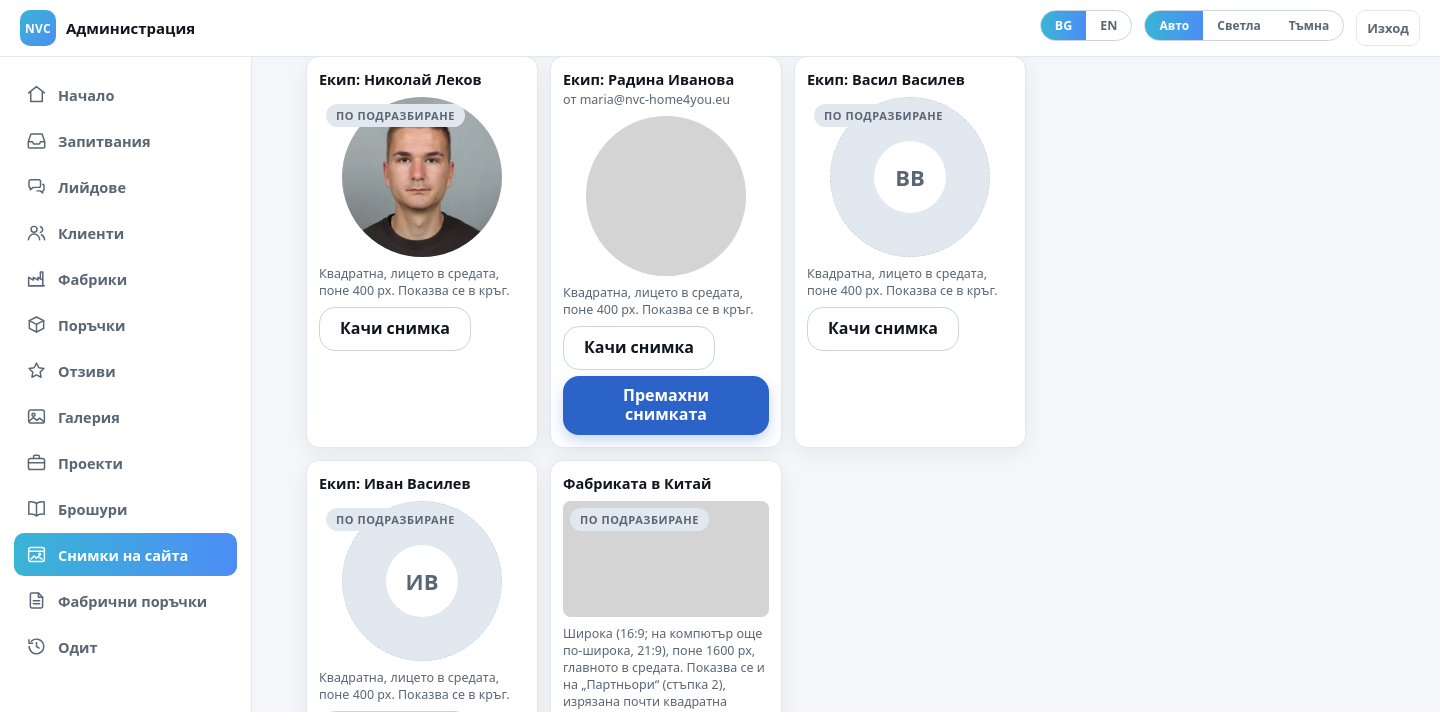
Test: AdminHomePhotosPage › offers to restore the default where there is one, and to remove the photo where the default is initials or nothing
(page scrolled)
Click the button with aria-label "Премахни снимката — Екип: Радина Иванова": (666, 405) 563,376 -> 769,435
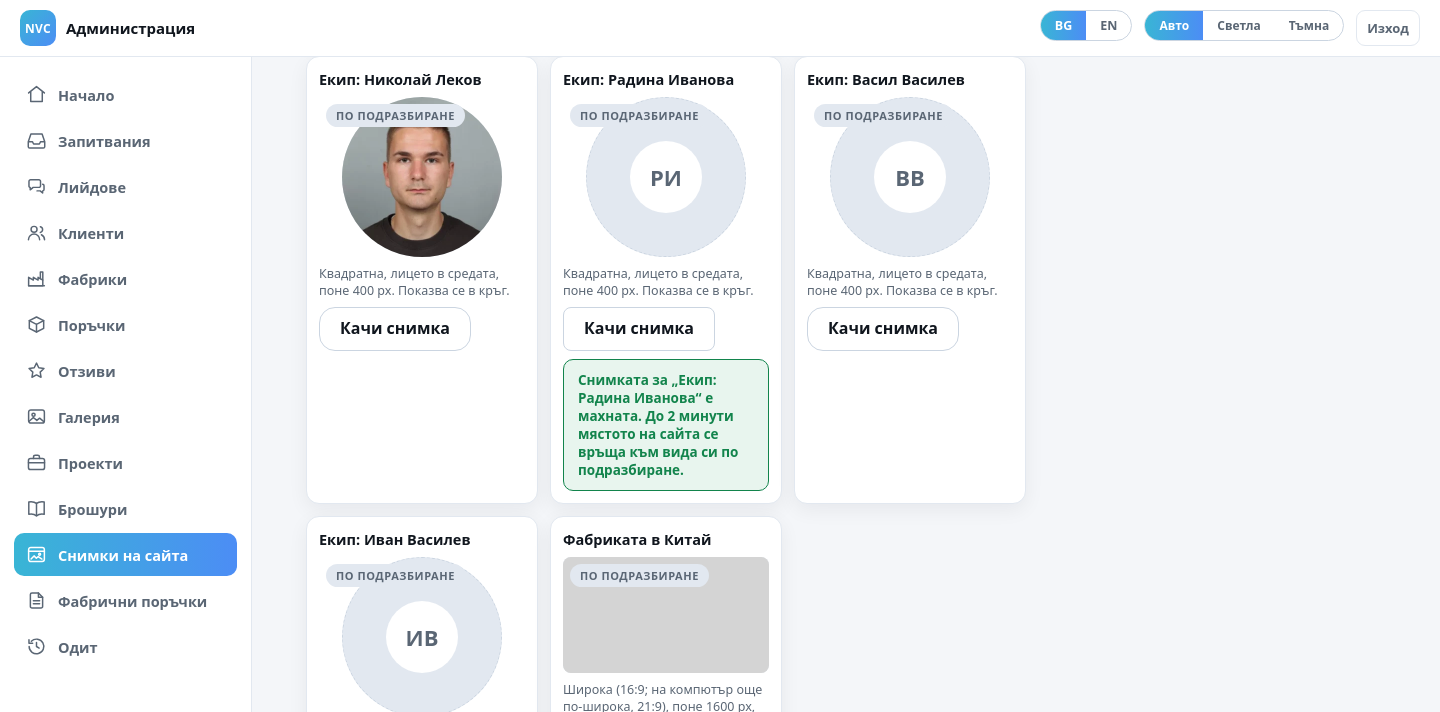
Check: the text "До 2 минути мястото на сайта се връща към вида си по подразбиране" is shown, box 578,371 -> 738,479
